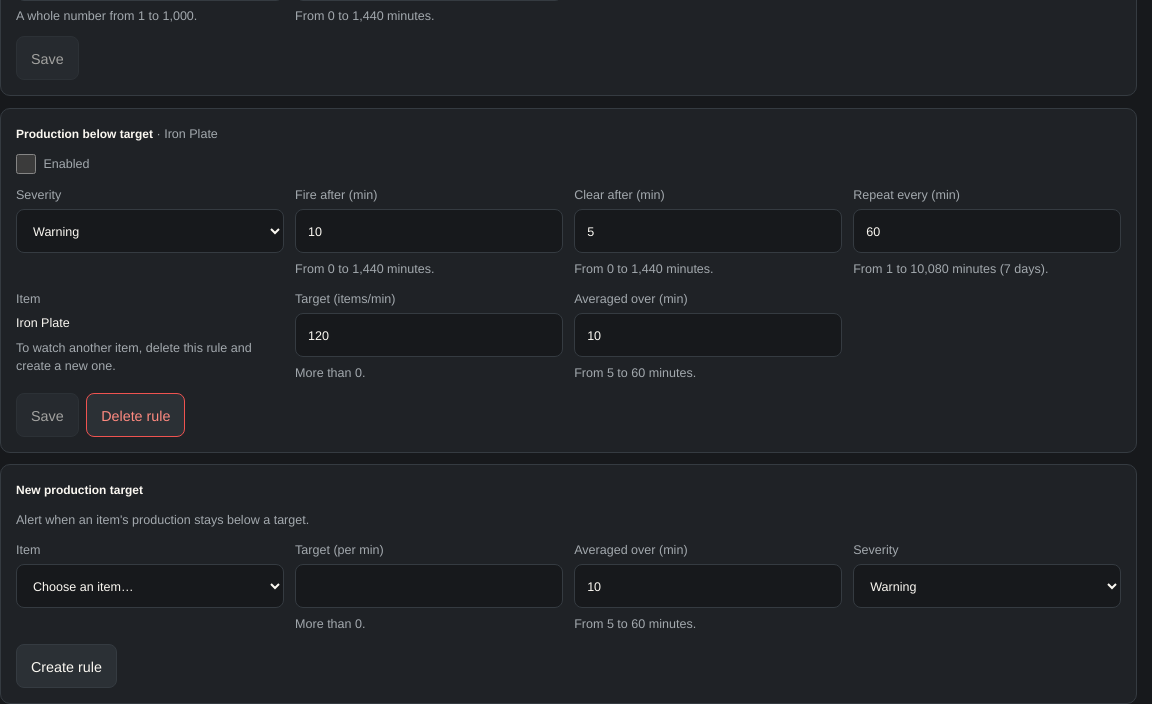
Scenario: New production target › keeps the input and shows the backend's refusal
This screenshot has width=1152, height=704.
(page scrolled)
Select "Wire" in the dropdown labelled "Item" at (150, 586), box top-left (16, 564), bottom-right (284, 608)
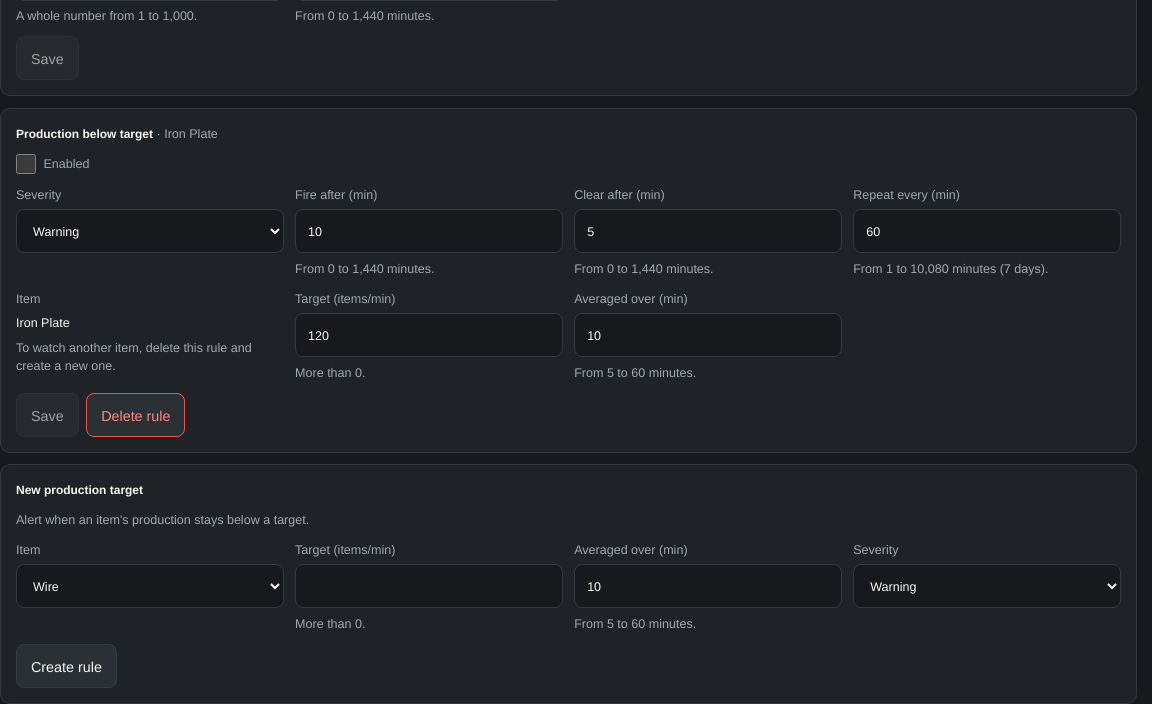
Type "90" into the field labelled "Target (items/min)" below "New production target" at (429, 586), box top-left (295, 564), bottom-right (563, 608)
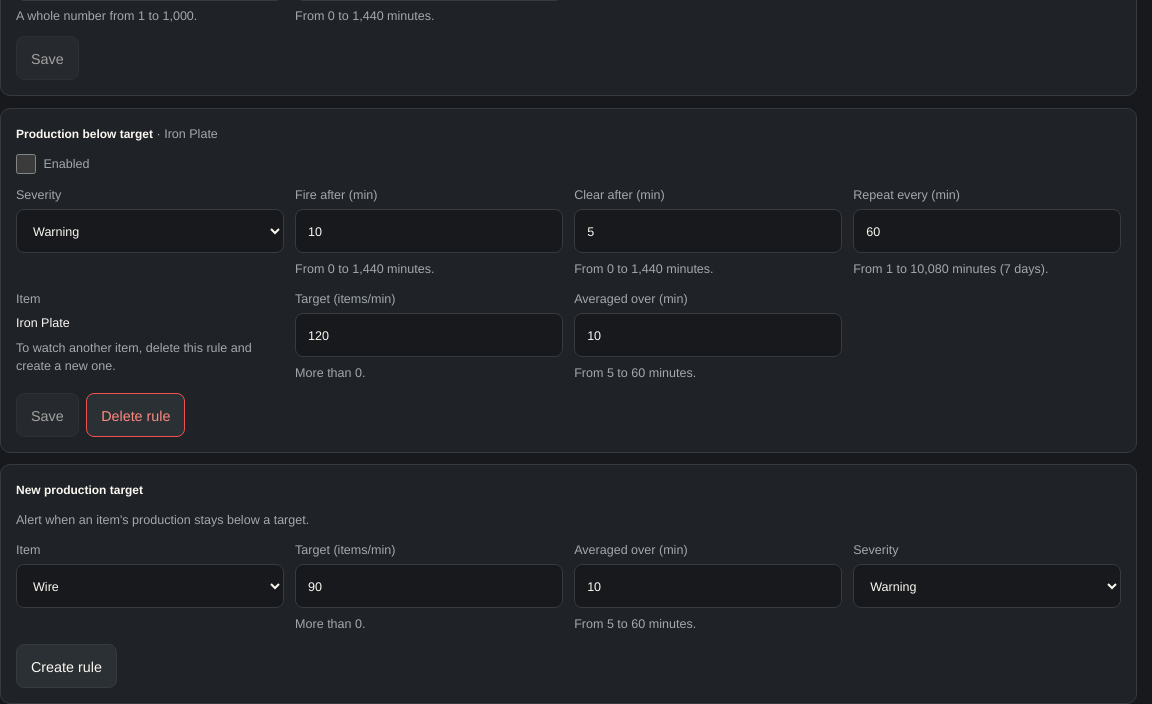
Click the button "Create rule" at (66, 666), box top-left (16, 644), bottom-right (117, 688)
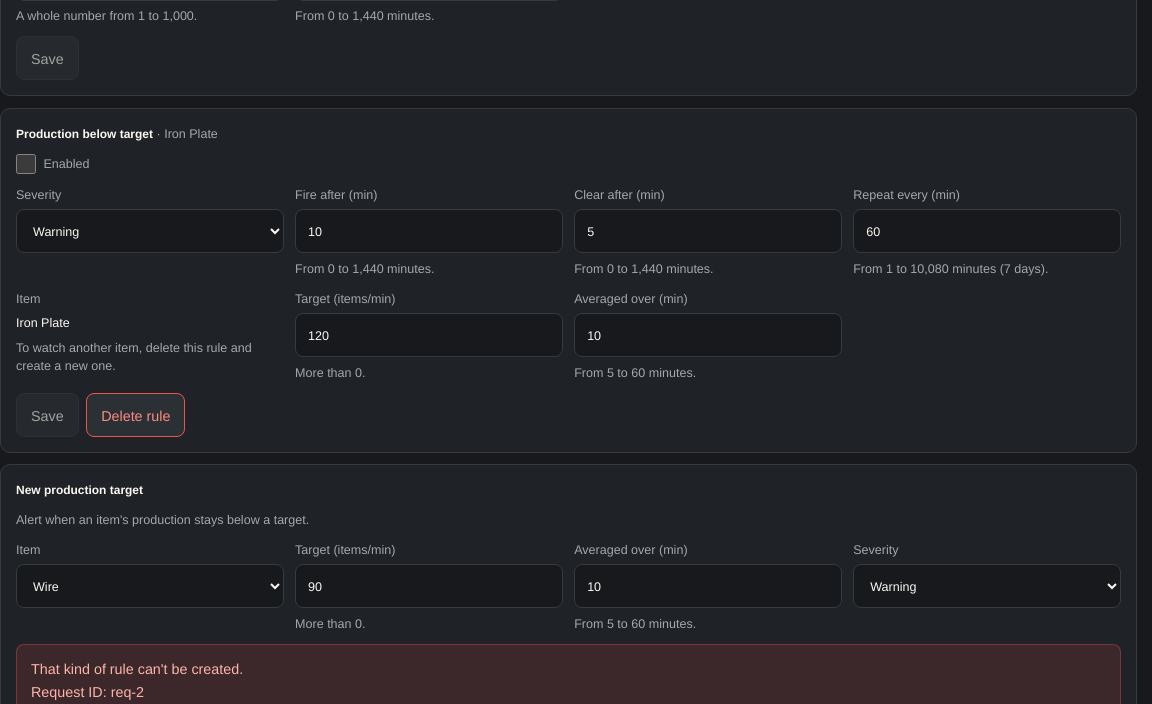
Check: the text "That kind of rule can't be created." is shown, box top-left (31, 659), bottom-right (243, 677)
